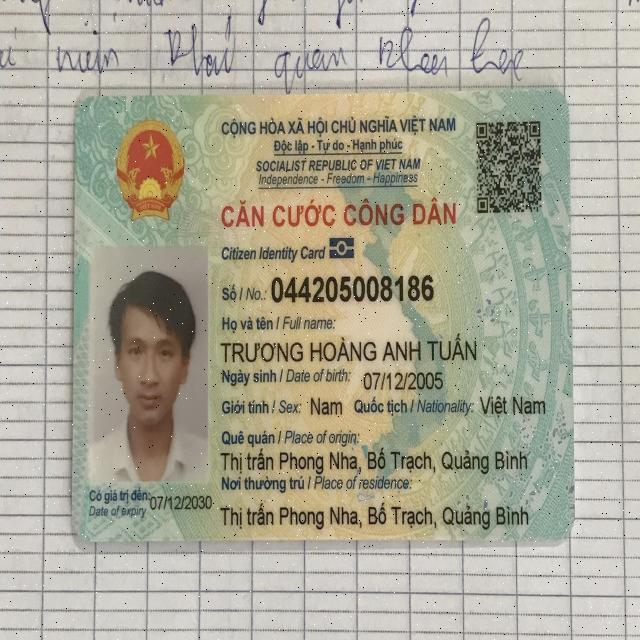current_place: (220, 498, 531, 533)
dob: (360, 364, 446, 395)
expire_date: (147, 491, 213, 512)
gender: (306, 392, 345, 418)
id: (263, 269, 435, 303)
name: (219, 334, 479, 370)
nationality: (474, 390, 547, 417)
origin_place: (219, 446, 530, 475)
qr: (470, 112, 546, 222)
